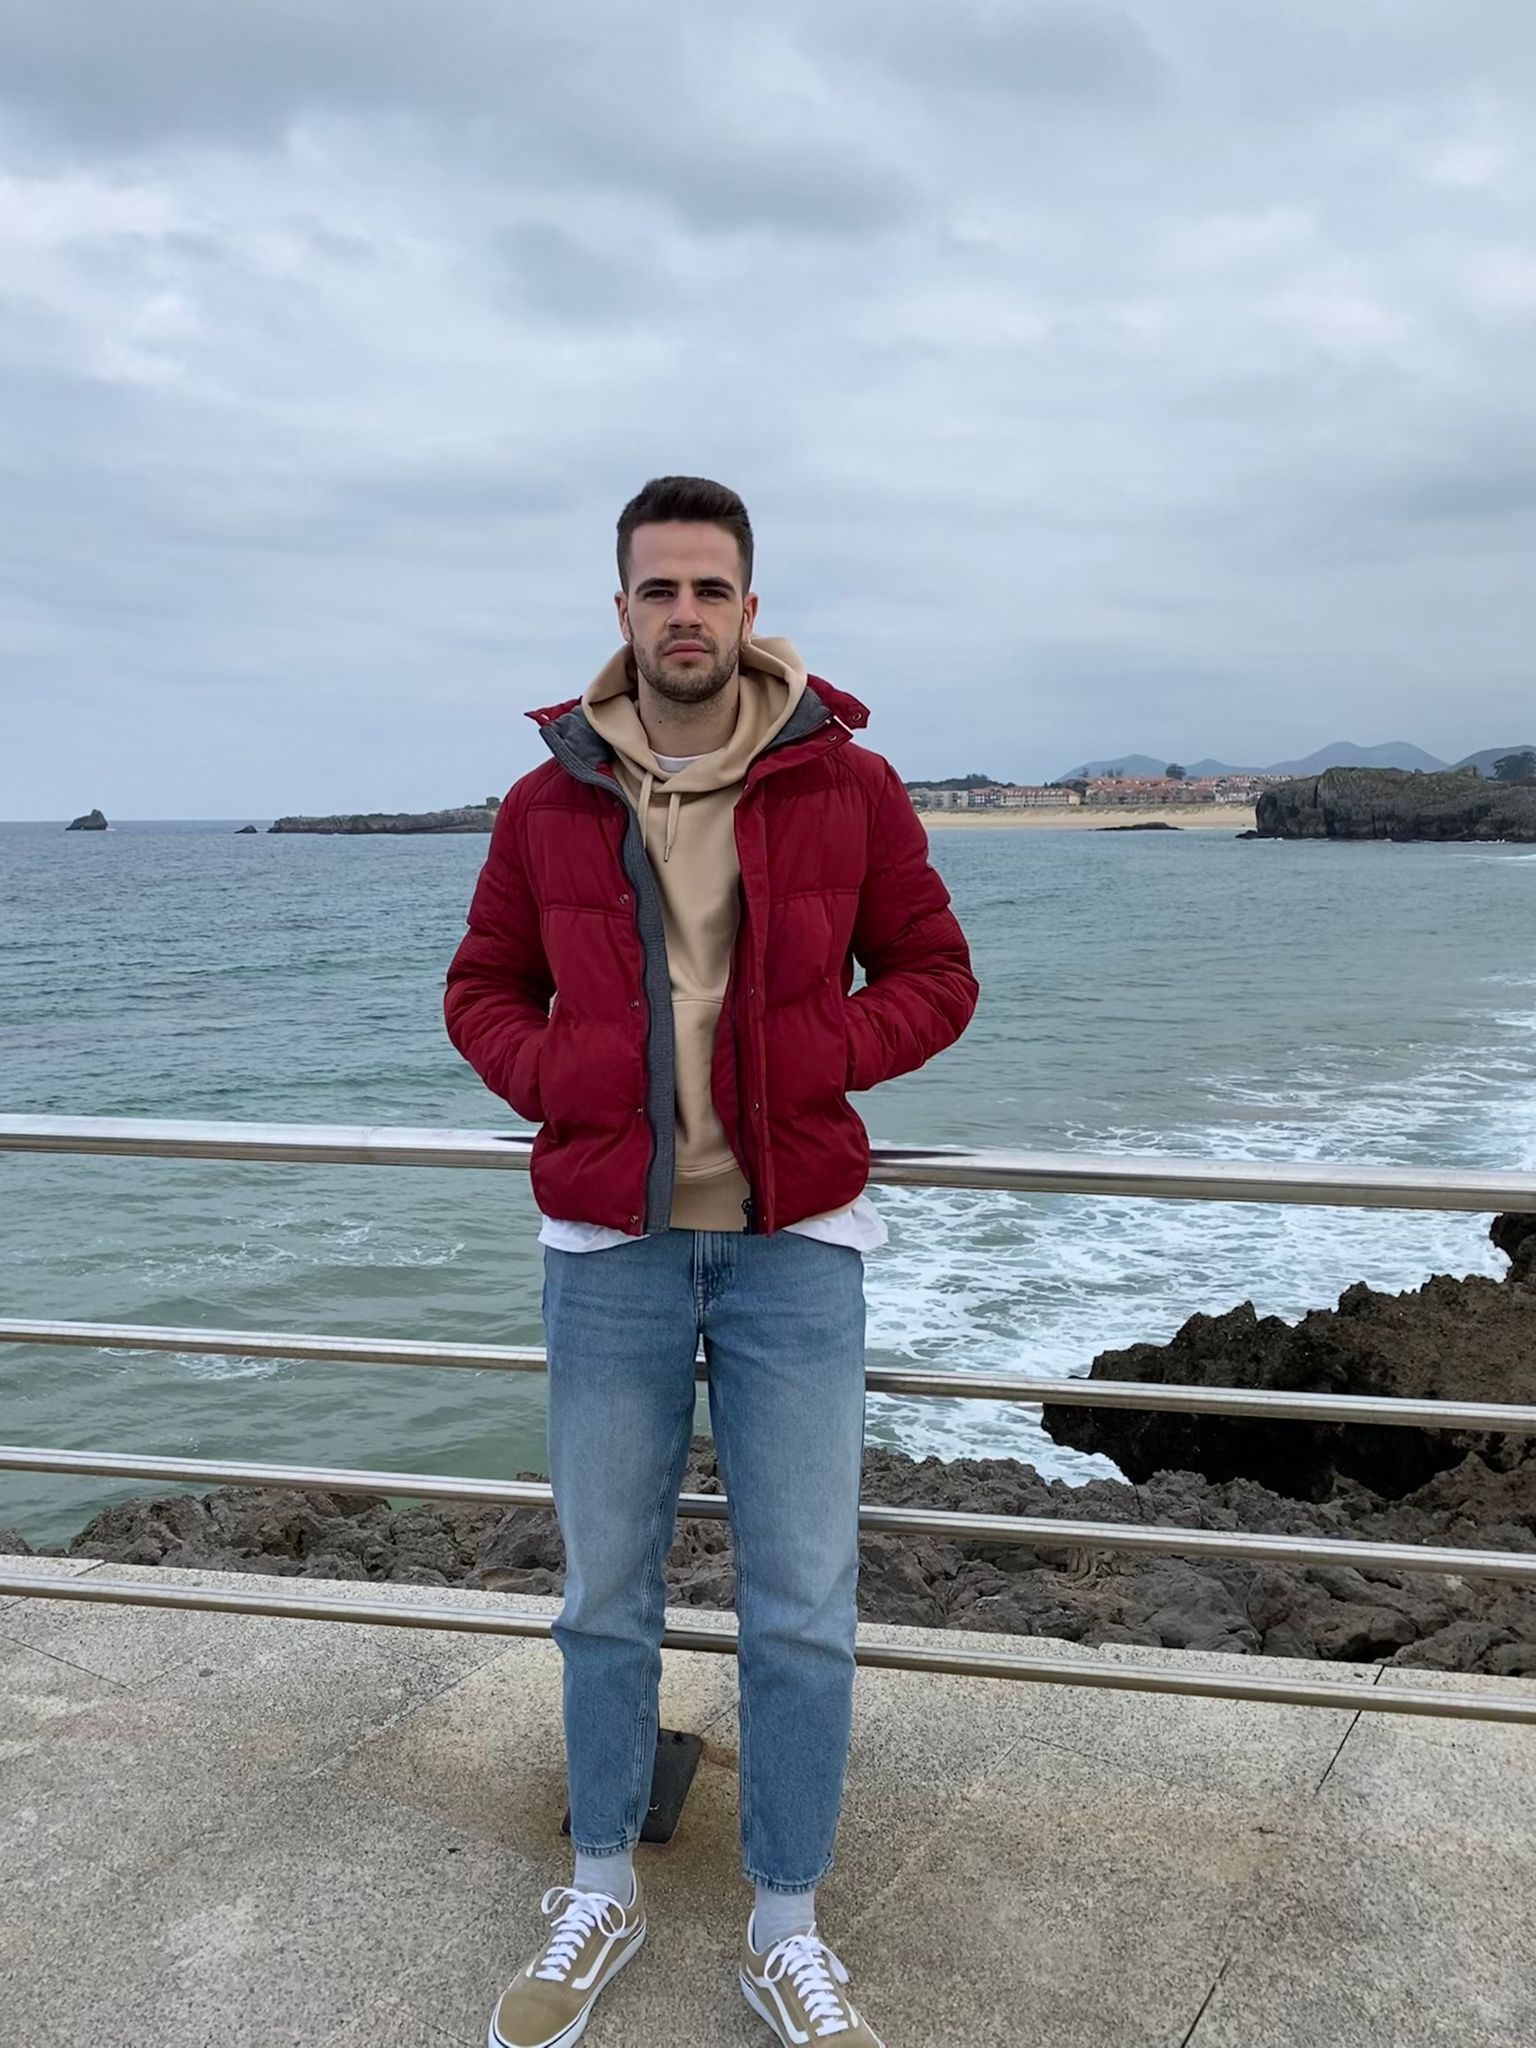Persona: (435, 452, 982, 2048)
Valla: (3, 1095, 1535, 1730)
